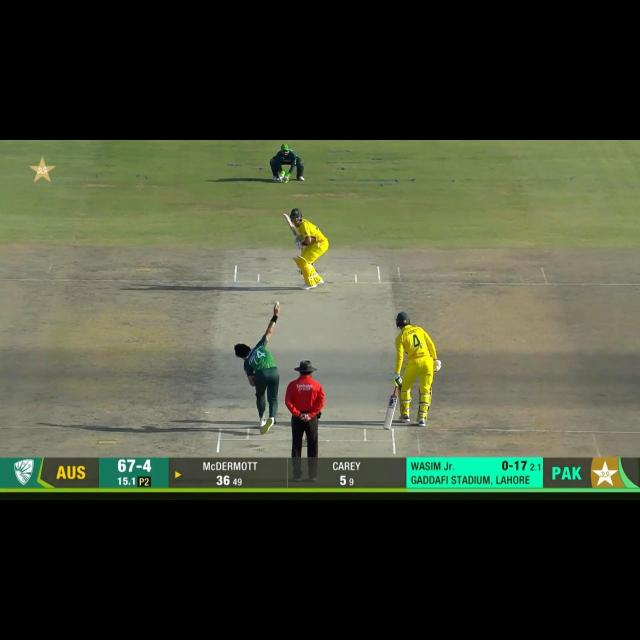bat: (382, 395, 400, 431), (282, 211, 296, 233)
toe: (384, 420, 391, 429), (284, 212, 289, 220)
